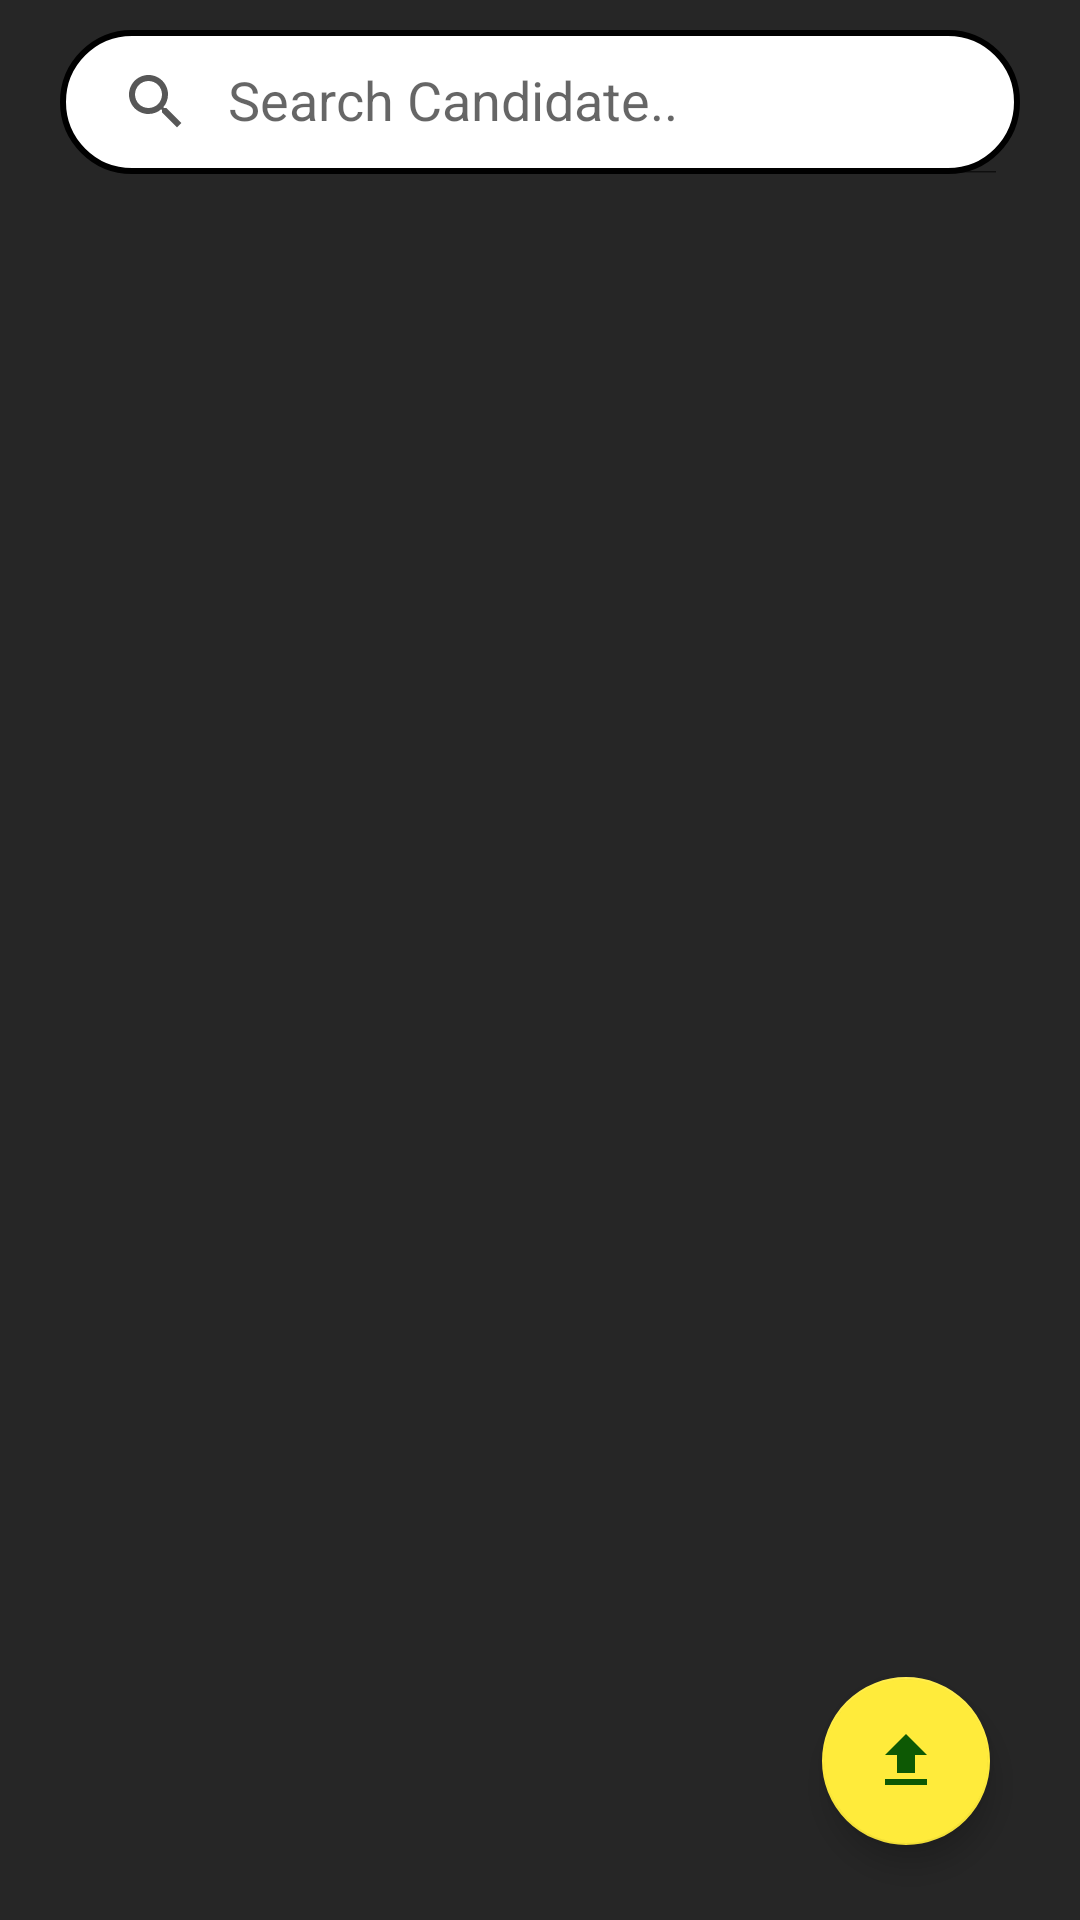

Locate icon controls on the screen. Image size 1080w x 1920h, boxes as detection(x1, y1, x2, y2).
file upload: detection(822, 1677, 990, 1845)
